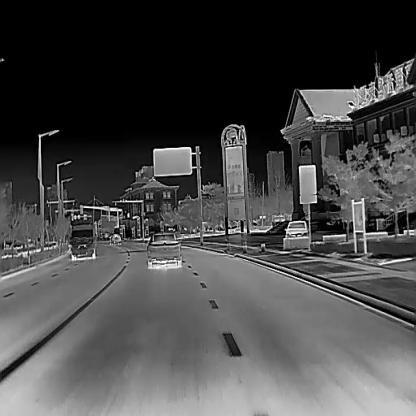car: (146, 231, 182, 265), (284, 218, 309, 236), (108, 232, 121, 244)
truck: (68, 219, 96, 260)
